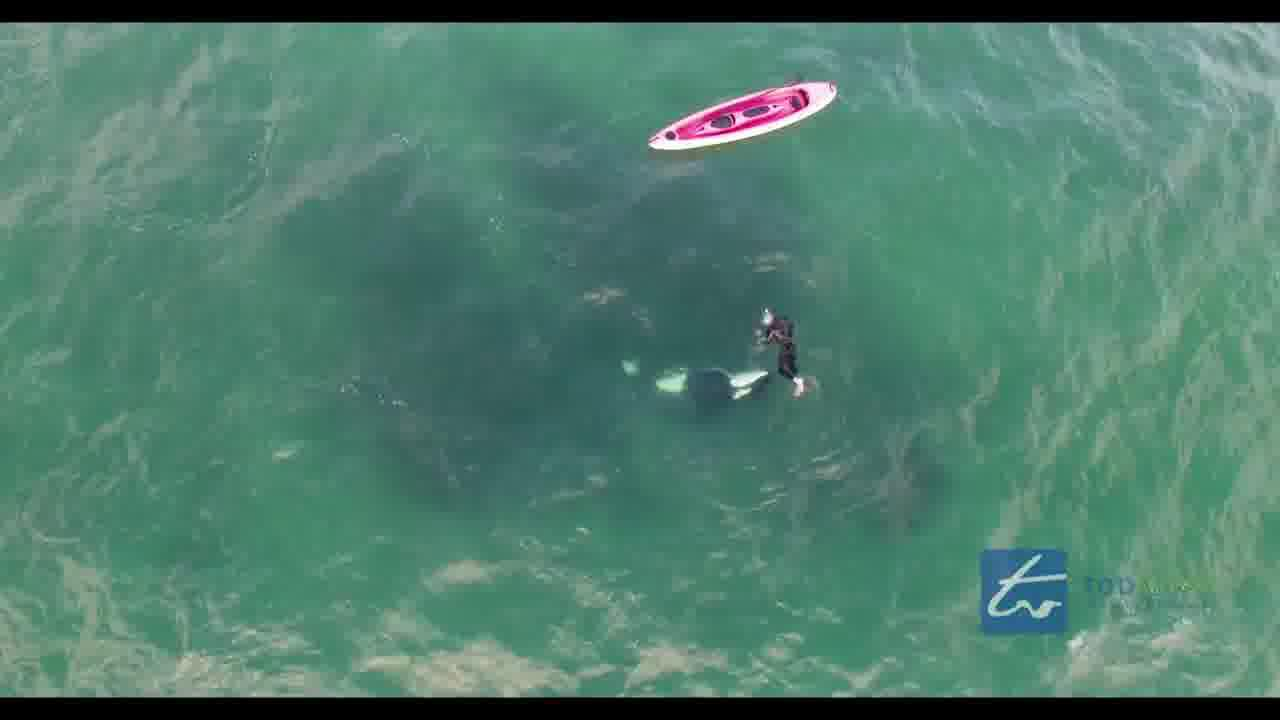human: (746, 302, 812, 392)
